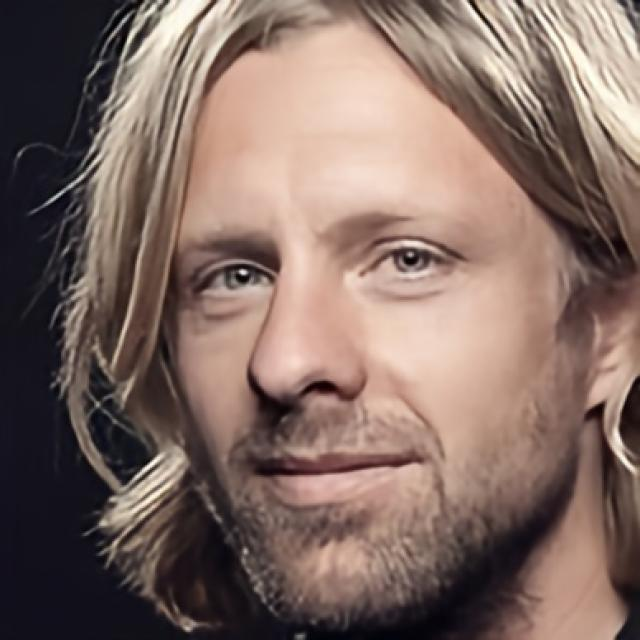content: (162, 0, 590, 622)
